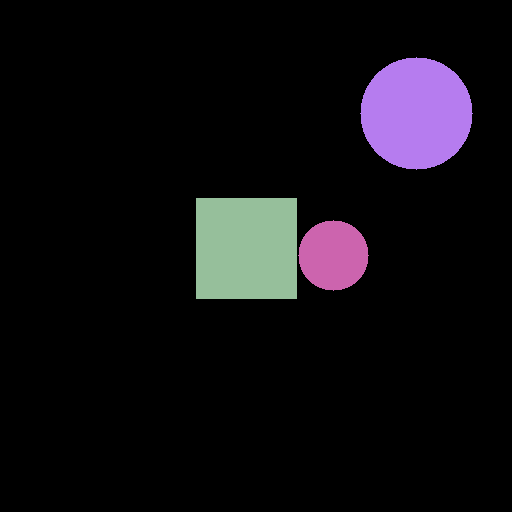circle: (360, 57, 472, 169), (298, 220, 368, 290)
square: (196, 198, 296, 298)
